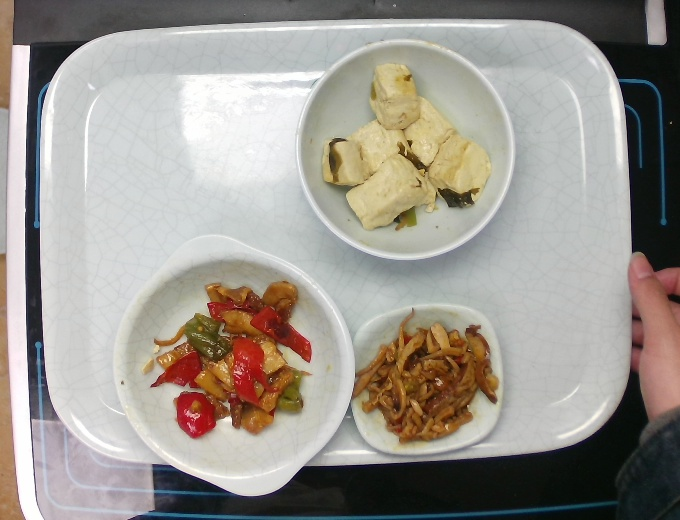JYsf-Fan_Wan: (291, 29, 520, 262)
JYsf-Shuang_Er_Wan: (111, 229, 356, 497)
JYsf-Si_Fang_Die: (345, 297, 508, 463)
